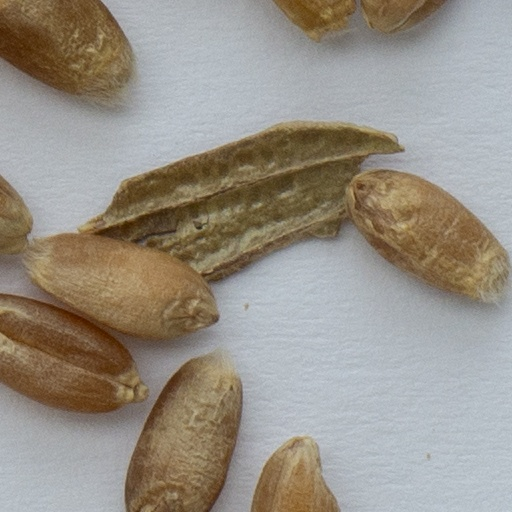Peel-poly: (82, 119, 409, 289)
Wheat-grain-poly: (348, 172, 510, 308), (18, 235, 221, 338), (125, 347, 247, 511), (0, 291, 149, 416)
